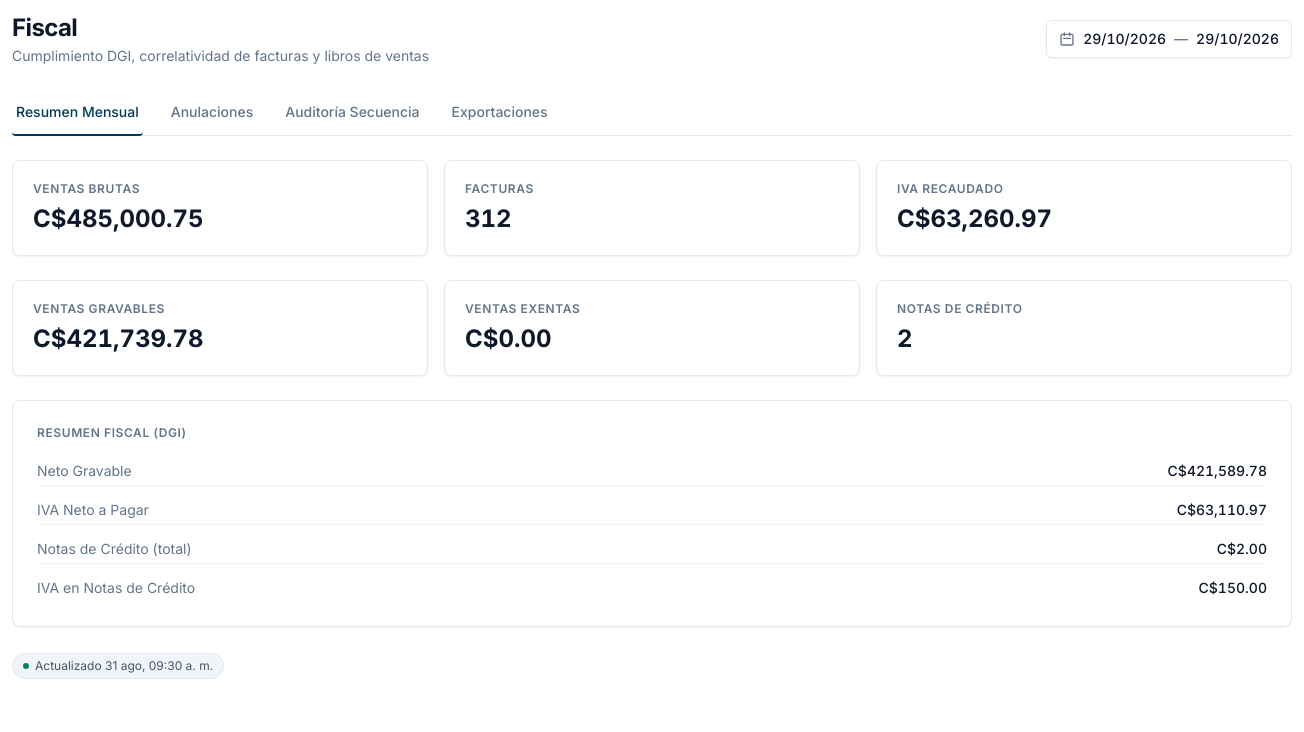
Test: W4 — FiscalPage › switches to sequence audit tab
Click the button "Auditoría Secuencia". click: click(352, 113)
box: [281,90,424,136]
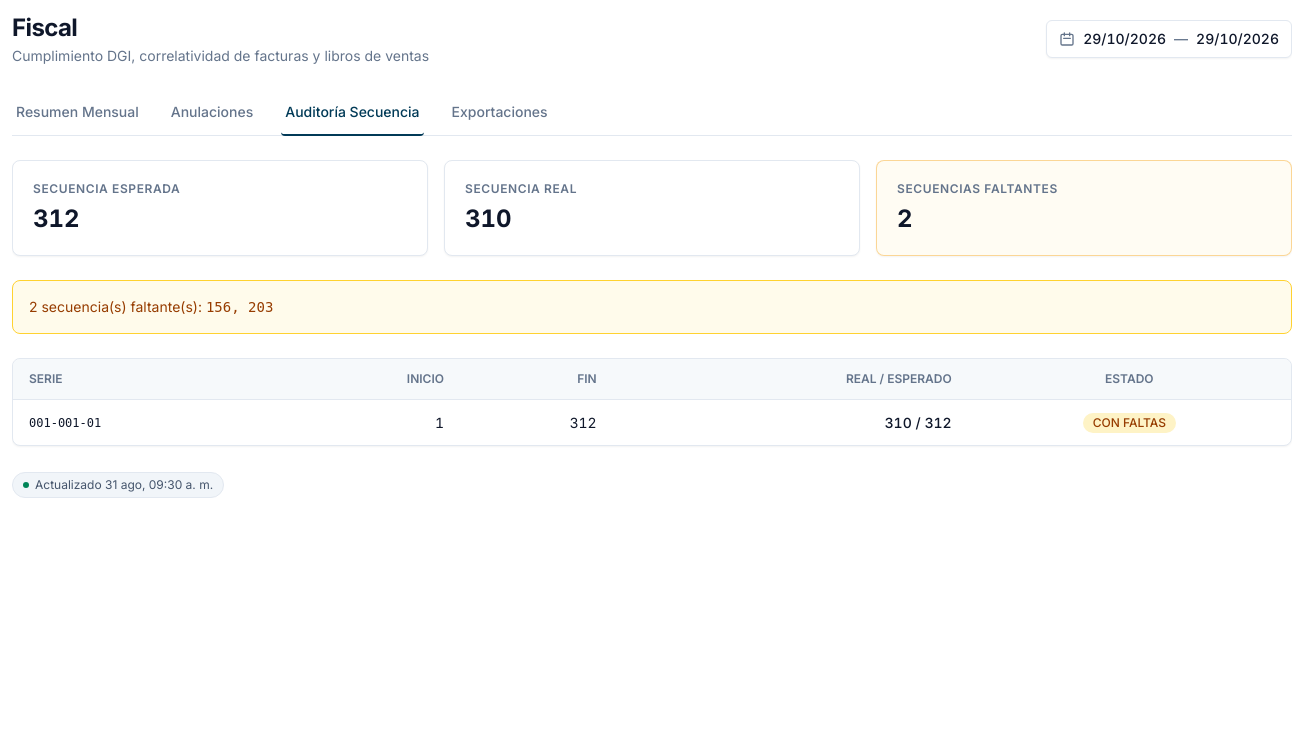
expect the text "Secuencia Esperada" is shown: met, box [33,181,180,196]
expect the text "Secuencia Real" is shown: met, box [465,181,577,196]
expect the text "Secuencias Faltantes" is shown: met, box [897,181,1058,196]
